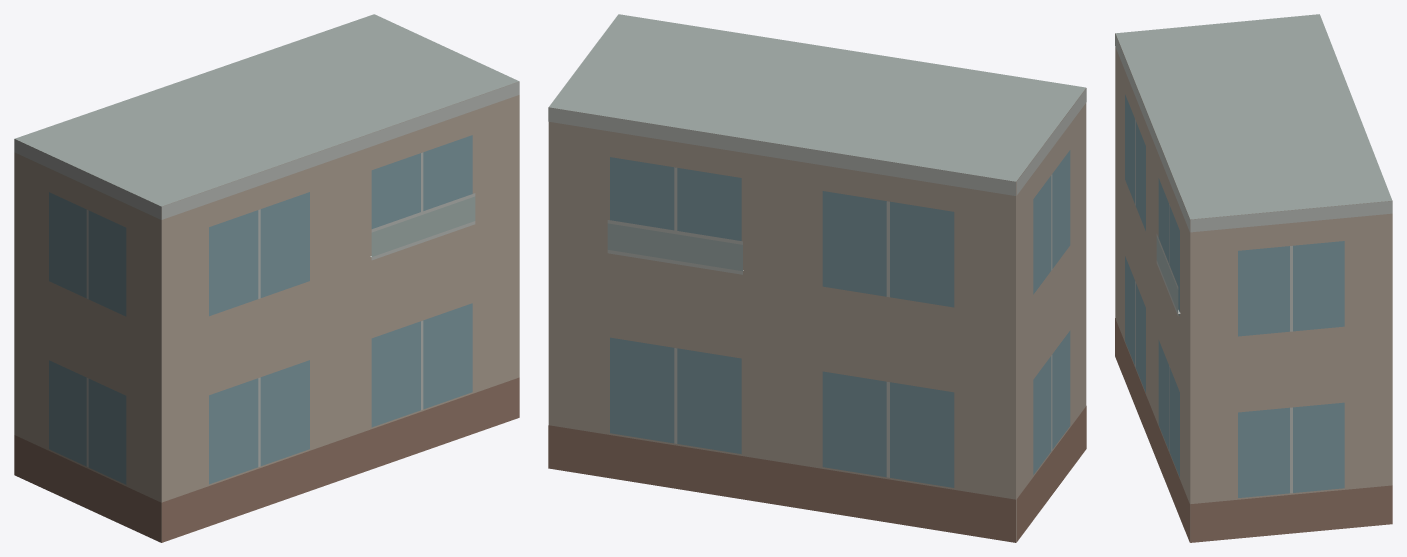
The model's file is survey-upis-32608903.glb.
The picture shows the model from 3 angles, left to right: view 1: azimuth 30°, elevation 25°; view 2: azimuth 150°, elevation 25°; view 3: azimuth 270°, elevation 25°; orthographic projection. The views are drawn at different scales.
Parts seen in each view (by area): view 1: survey-upis-32608903.tmp; view 2: survey-upis-32608903.tmp; view 3: survey-upis-32608903.tmp.
Part boxes in pixels (box(x1,y1,x2,y2)): survey-upis-32608903.tmp: box(14, 14, 519, 542); survey-upis-32608903.tmp: box(548, 14, 1086, 542); survey-upis-32608903.tmp: box(1115, 14, 1392, 542).
Bounding box in the file's own units: 8.32 × 6.1 × 4.75.
